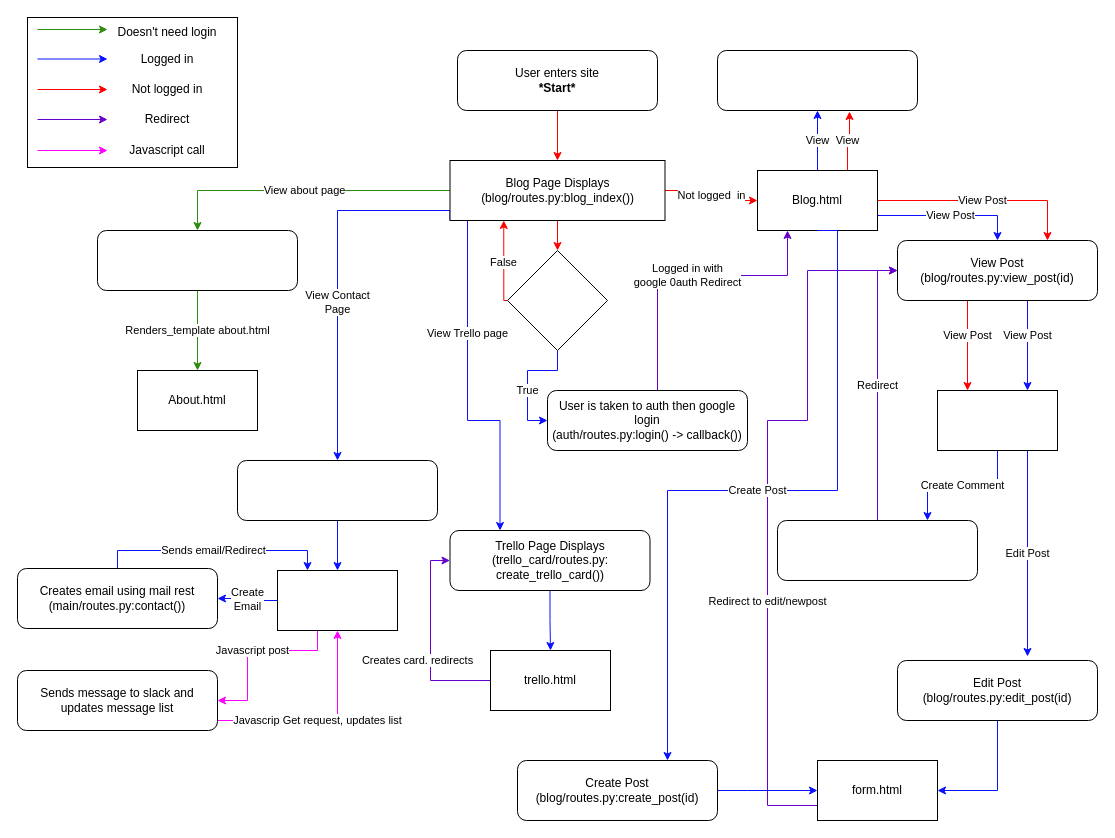
The diagram is 1115 pixels wide and 838 high, and some of its shapes have lost their labels. Here are the shapes that lost their labels. From the top down, the box of each, then its label:
(716, 50, 918, 110): View all posts
(96, 230, 298, 290): About Page Displays (main/routes.py:about())
(506, 250, 608, 350): Login
(936, 390, 1058, 450): post.html
(236, 460, 438, 520): Contact Page Displays (main/routes.py:contact())
(776, 520, 978, 580): Create Comment (blog/routes.py:add_comment(id)
(276, 570, 398, 630): Contact.html
